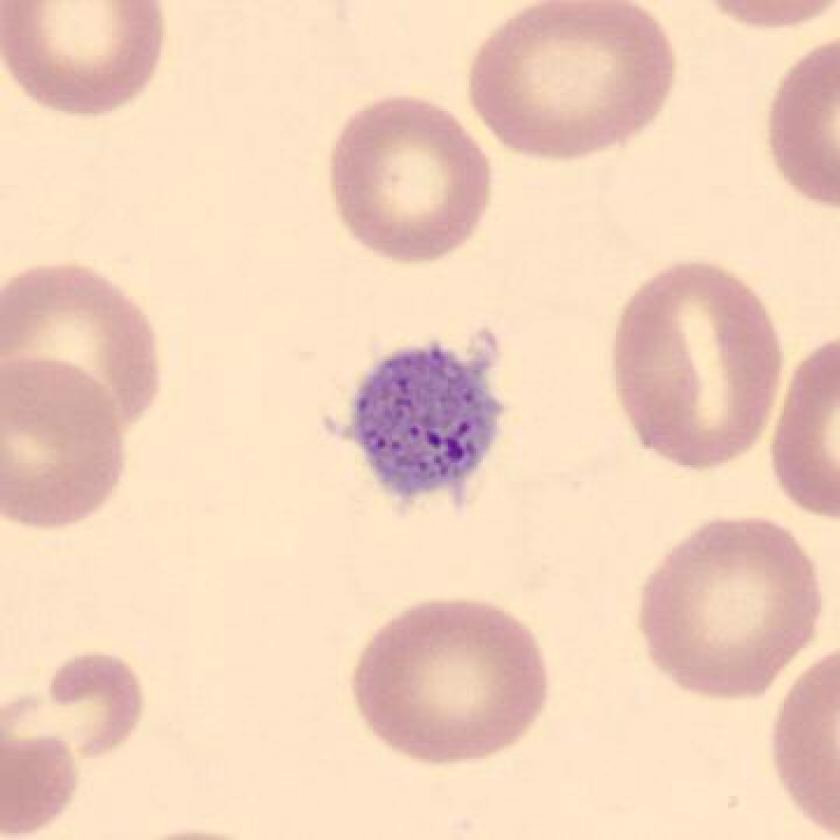platelets: (337, 330, 514, 508)
